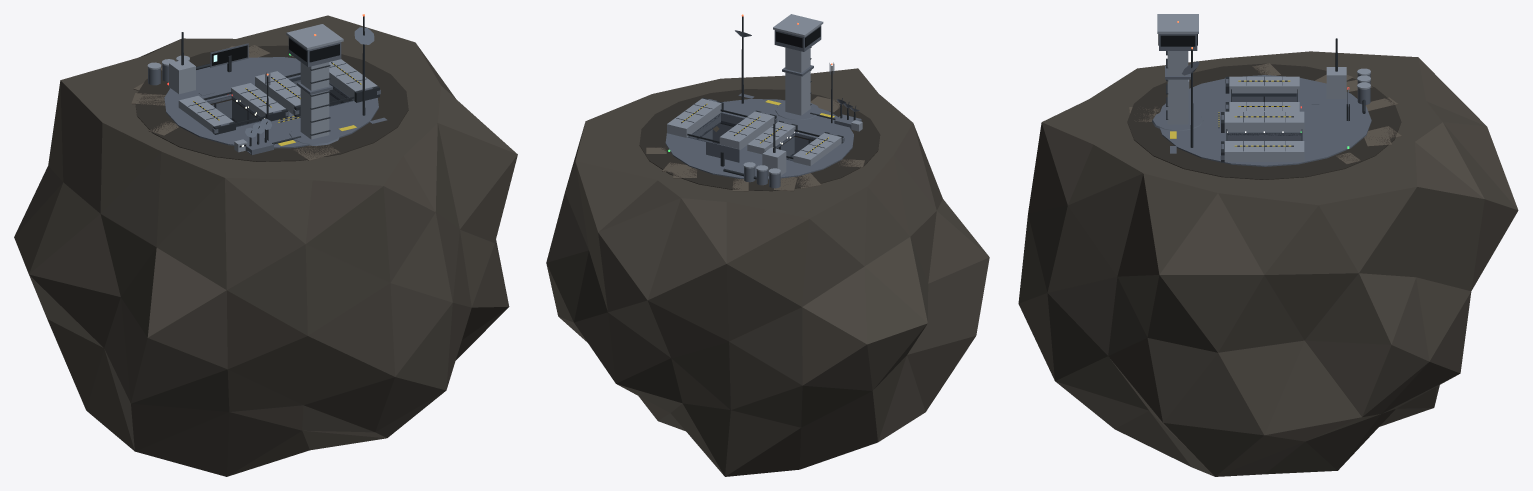
Rendered from comet-s.glb.
3 views of the same model, side by side, from view 1: azimuth 30°, elevation 25°; view 2: azimuth 150°, elevation 25°; view 3: azimuth 270°, elevation 25° (orthographic). The views are drawn at different scales.
Parts seen in each view (by area): view 1: cometBody, plateauPad, plateauDeck, cometTowerShaft, berthLDeckDoorHouseL, berthLDeckDoorHouseR, berthSMDeckDoorHouseL, berthSMDeckDoorHouseR, cometTowerRoof, miningRig, cometTowerApron; view 2: cometBody, plateauPad, plateauDeck, cometTowerShaft, berthLDeckDoorHouseR, berthLDeckDoorHouseL, berthSMDeckDoorHouseL, berthSMDeckDoorHouseR, cometTowerRoof, miningRig; view 3: cometBody, plateauPad, plateauDeck, berthLDeckDoorHouseL, berthLDeckDoorHouseR, cometTowerShaft, berthSMDeckDoorHouseL, cometTowerRoof, berthSMDeckDoorHouseR, miningRig, cometTowerApron.
Part boxes in pixels (x1=…): cometBody: x1=14, y1=15, x2=517, y2=476; plateauPad: x1=135, y1=45, x2=408, y2=161; plateauDeck: x1=164, y1=57, x2=378, y2=148; cometTowerShaft: x1=300, y1=62, x2=329, y2=139; berthLDeckDoorHouseL: x1=255, y1=71, x2=300, y2=114; berthLDeckDoorHouseR: x1=329, y1=59, x2=377, y2=100; berthSMDeckDoorHouseL: x1=178, y1=95, x2=233, y2=131; berthSMDeckDoorHouseR: x1=231, y1=83, x2=285, y2=118; cometTowerRoof: x1=286, y1=24, x2=343, y2=50; miningRig: x1=169, y1=59, x2=195, y2=93; cometTowerApron: x1=289, y1=125, x2=340, y2=145; cometBody: x1=546, y1=68, x2=989, y2=476; plateauPad: x1=639, y1=89, x2=880, y2=191; plateauDeck: x1=665, y1=99, x2=853, y2=179; cometTowerShaft: x1=785, y1=47, x2=810, y2=115; berthLDeckDoorHouseR: x1=667, y1=98, x2=721, y2=137; berthLDeckDoorHouseL: x1=719, y1=111, x2=774, y2=150; berthSMDeckDoorHouseL: x1=793, y1=133, x2=841, y2=165; berthSMDeckDoorHouseR: x1=747, y1=121, x2=795, y2=154; cometTowerRoof: x1=773, y1=14, x2=823, y2=37; miningRig: x1=762, y1=147, x2=786, y2=176; cometBody: x1=1018, y1=51, x2=1518, y2=476; plateauPad: x1=1127, y1=63, x2=1401, y2=179; plateauDeck: x1=1159, y1=75, x2=1371, y2=166; berthLDeckDoorHouseL: x1=1224, y1=111, x2=1304, y2=132; berthLDeckDoorHouseR: x1=1224, y1=141, x2=1304, y2=161; cometTowerShaft: x1=1167, y1=51, x2=1188, y2=124; berthSMDeckDoorHouseL: x1=1229, y1=76, x2=1299, y2=93; cometTowerRoof: x1=1157, y1=14, x2=1198, y2=33; berthSMDeckDoorHouseR: x1=1229, y1=102, x2=1299, y2=111; miningRig: x1=1326, y1=67, x2=1346, y2=98; cometTowerApron: x1=1152, y1=110, x2=1203, y2=130.
Size of the model in its own units: 87.47 by 85.52 by 91.1.
